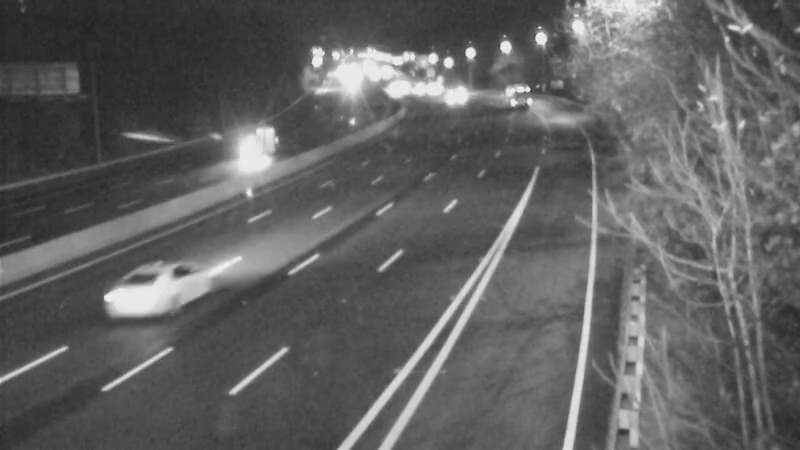vehicle: (96, 259, 176, 339), (215, 113, 295, 193), (492, 67, 542, 117), (424, 74, 474, 124)
